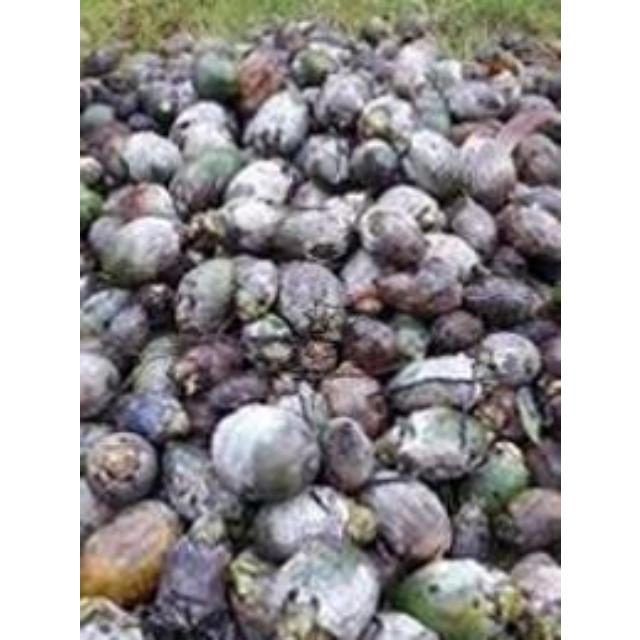damaged: (246, 536, 380, 640), (209, 403, 319, 503), (80, 498, 178, 606), (389, 556, 511, 640), (144, 530, 233, 636), (381, 406, 487, 484), (360, 477, 448, 568), (251, 487, 347, 563), (159, 442, 235, 526), (83, 430, 159, 508), (274, 260, 344, 338), (172, 258, 238, 336), (394, 128, 464, 200), (316, 372, 386, 442), (271, 205, 353, 262), (492, 486, 560, 554), (242, 88, 310, 156), (454, 134, 516, 208), (358, 202, 426, 268), (461, 273, 542, 327), (110, 392, 186, 448), (172, 337, 244, 395), (474, 330, 540, 388), (218, 196, 284, 254), (339, 314, 398, 376), (80, 120, 136, 184), (231, 580, 289, 640), (126, 336, 180, 400), (417, 232, 479, 286), (234, 48, 286, 112), (230, 255, 280, 321), (239, 313, 295, 371), (224, 160, 292, 207), (445, 196, 497, 256), (120, 130, 180, 182), (80, 287, 134, 343), (104, 182, 176, 224), (315, 70, 369, 126), (80, 349, 122, 421), (354, 94, 414, 144), (471, 384, 524, 440), (169, 102, 235, 146), (444, 78, 510, 122), (338, 248, 384, 310), (348, 137, 400, 191), (510, 130, 560, 186), (192, 45, 240, 101), (79, 475, 115, 549), (426, 310, 484, 354), (274, 386, 326, 430), (182, 208, 228, 255), (353, 46, 401, 90), (408, 82, 448, 134), (508, 94, 556, 136), (298, 20, 354, 56), (291, 45, 341, 85), (516, 183, 560, 224), (522, 441, 558, 491), (472, 48, 522, 84), (420, 281, 466, 319), (512, 34, 558, 72), (134, 282, 176, 322), (289, 176, 337, 210), (86, 215, 122, 258), (154, 252, 196, 288), (119, 50, 160, 86), (81, 42, 121, 78), (524, 66, 560, 105), (80, 420, 112, 462), (488, 243, 528, 275), (80, 102, 116, 134), (80, 180, 104, 228), (270, 22, 308, 52), (430, 58, 464, 90), (107, 87, 141, 119), (392, 13, 428, 41), (79, 78, 107, 114), (100, 72, 138, 98), (160, 31, 196, 58), (372, 36, 402, 62), (359, 18, 389, 44), (495, 30, 527, 54), (339, 190, 366, 218), (124, 111, 158, 132)
